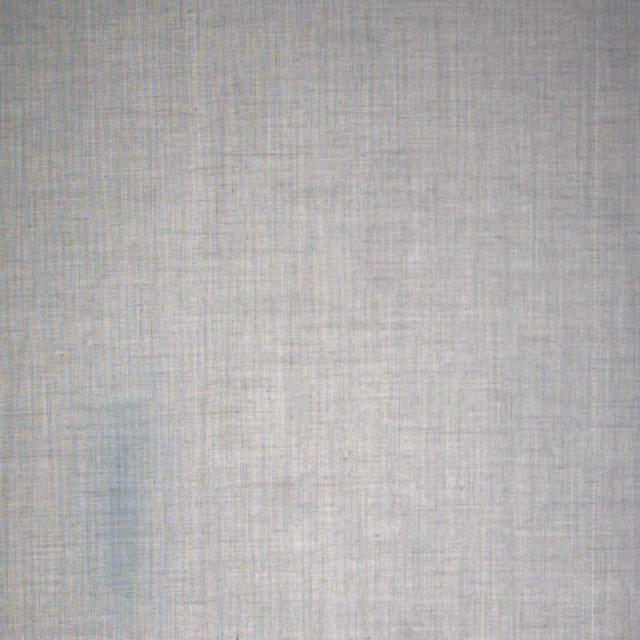dirty: (109, 408, 142, 585)
